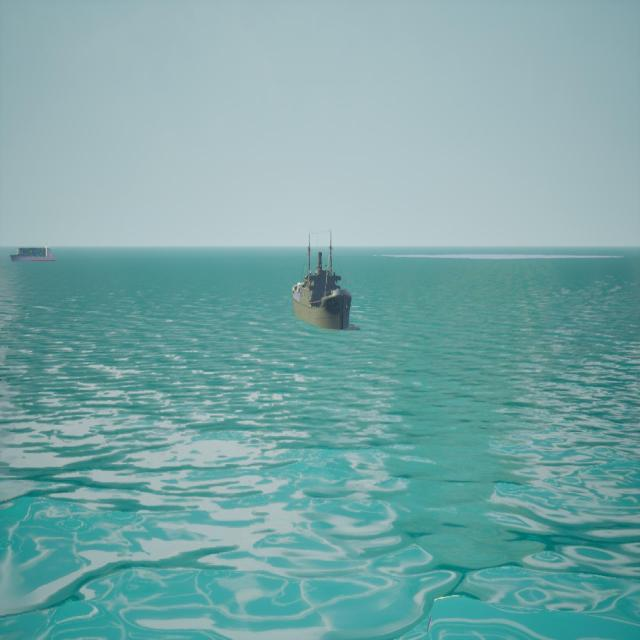fishing ship: (292, 231, 352, 335)
